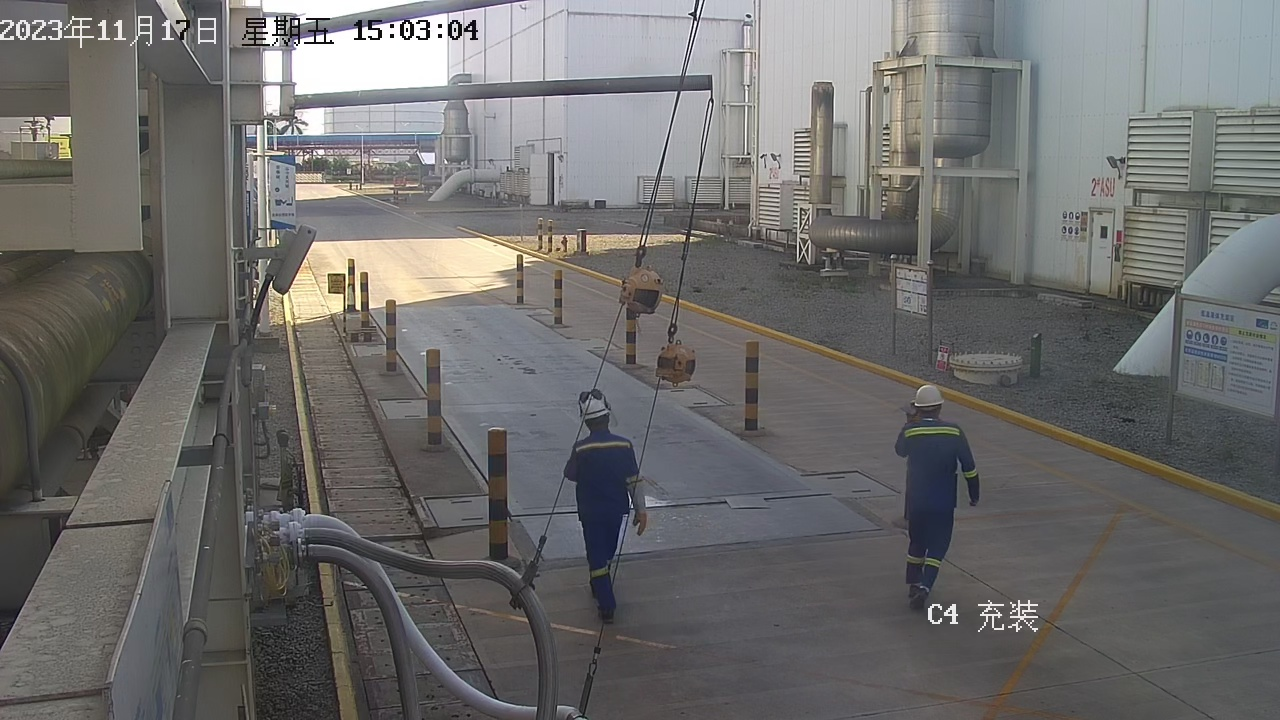Head_with_Helmet: (886, 374, 963, 430), (555, 381, 632, 437)
Uniform: (537, 418, 679, 628), (871, 407, 996, 614)
